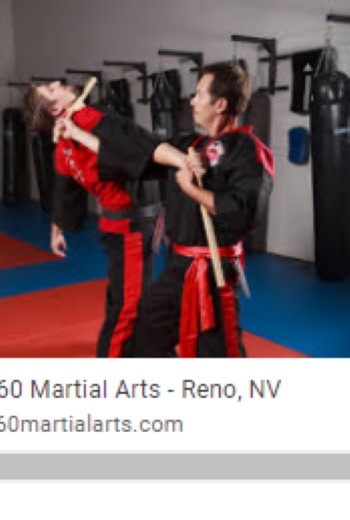baston_e: (186, 178, 234, 280), (51, 84, 107, 135)
baston_v: (211, 272, 230, 292), (48, 128, 60, 147), (183, 142, 197, 156), (87, 74, 101, 88)
